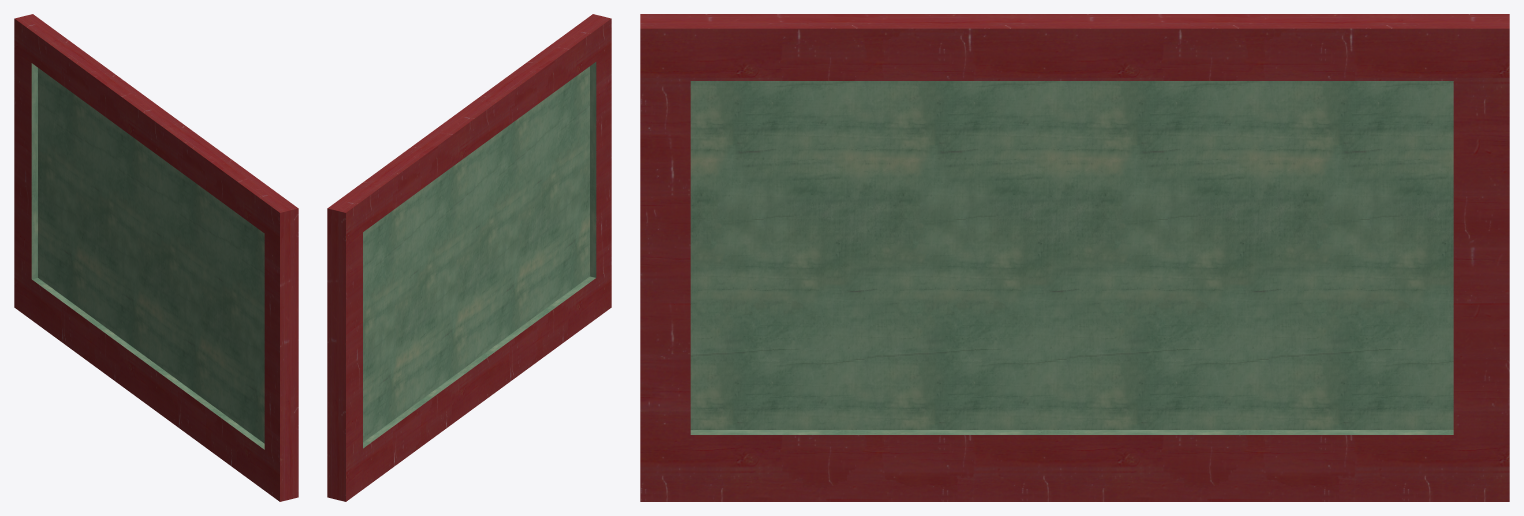
File: SM_W_Wood_2.fbx
3 renders of one model, left to right at view 1: azimuth 30°, elevation 25°; view 2: azimuth 150°, elevation 25°; view 3: azimuth 270°, elevation 25°, orthographic. The views are drawn at different scales.
Visible parts, largest first — view 1: SM_W_Wood_2; view 2: SM_W_Wood_2; view 3: SM_W_Wood_2.
Boxes of the visible parts, left/top/right/bottom form: SM_W_Wood_2: left=14, top=14, right=298, bottom=501; SM_W_Wood_2: left=327, top=14, right=611, bottom=501; SM_W_Wood_2: left=640, top=14, right=1509, bottom=501.
Size of the model in its own units: 10.98 by 272 by 163.
Materials: 2 (2 with a texture image).
